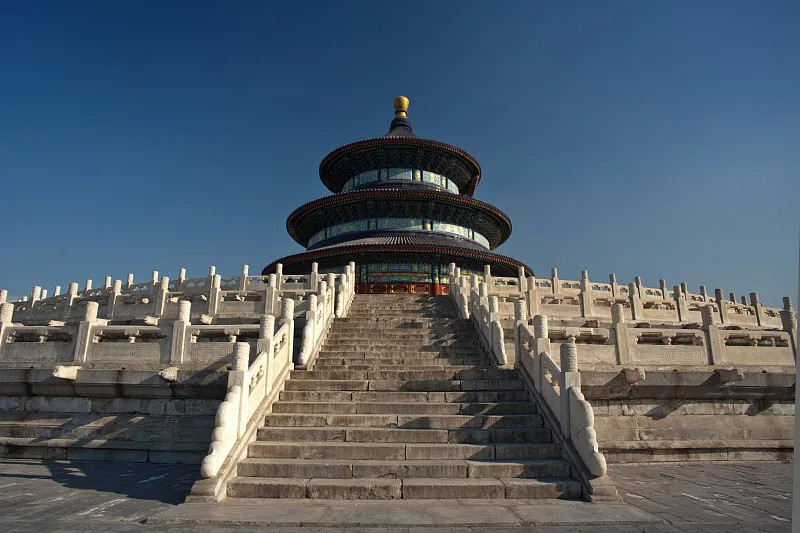Heaven: (261, 94, 535, 296)
